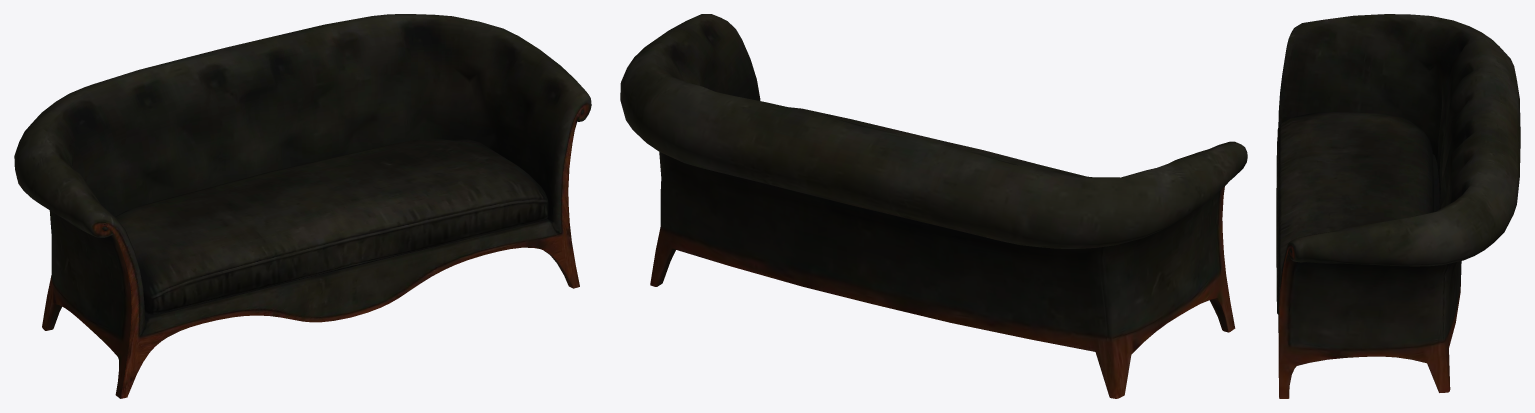
Rendered from sofa_02.glb.
3 renders of one model, left to right at view 1: azimuth 30°, elevation 25°; view 2: azimuth 150°, elevation 25°; view 3: azimuth 270°, elevation 25°, orthographic. The views are drawn at different scales.
Parts seen in each view (by area): view 1: sofa_02_Base; view 2: sofa_02_Base; view 3: sofa_02_Base.
Boxes of the visible parts, bbox=[...] form: sofa_02_Base: bbox=[14, 14, 591, 398]; sofa_02_Base: bbox=[620, 14, 1247, 398]; sofa_02_Base: bbox=[1276, 14, 1520, 398].
Bounding box in the file's own units: 1.81 × 0.7095 × 0.8176.
Materials: 1 (1 with a texture image).
